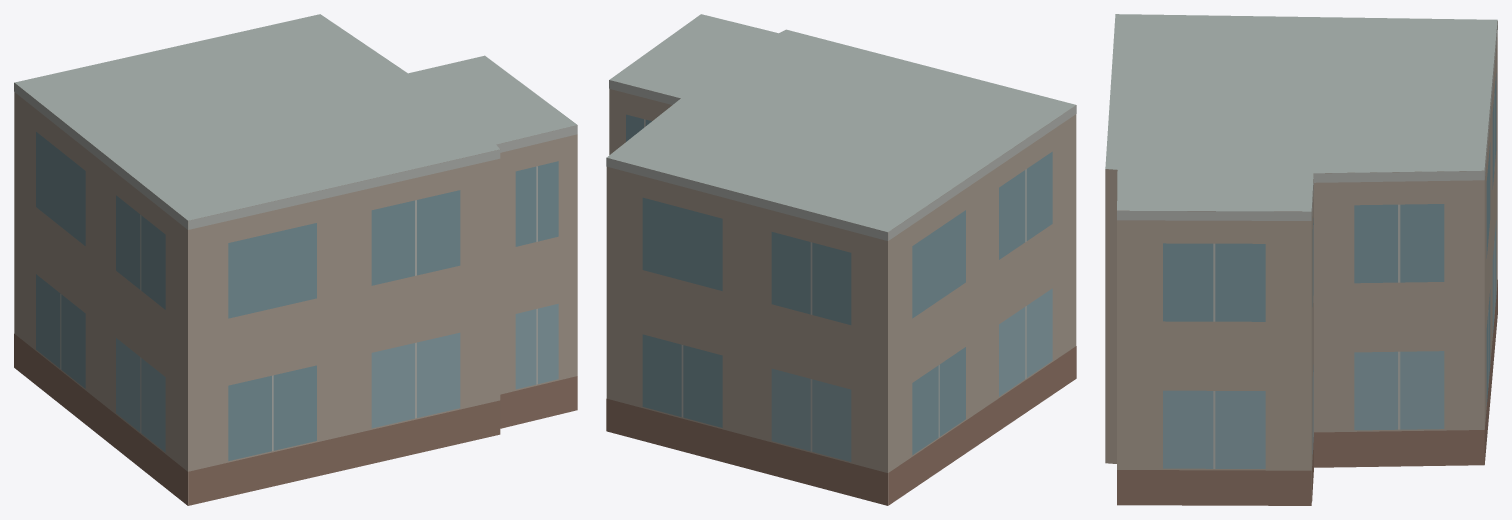
Rendered from survey-upis-32517968.glb.
3 renders of one model, left to right at view 1: azimuth 30°, elevation 25°; view 2: azimuth 150°, elevation 25°; view 3: azimuth 270°, elevation 25°, orthographic. The views are drawn at different scales.
Visible parts, largest first — view 1: survey-upis-32517968.tmp; view 2: survey-upis-32517968.tmp; view 3: survey-upis-32517968.tmp.
Part boxes in pixels (bbox=[...]): survey-upis-32517968.tmp: bbox=[14, 14, 577, 505]; survey-upis-32517968.tmp: bbox=[606, 14, 1076, 505]; survey-upis-32517968.tmp: bbox=[1105, 14, 1497, 505].
Size of the model in its own units: 10.8 by 7.5 by 9.07.
